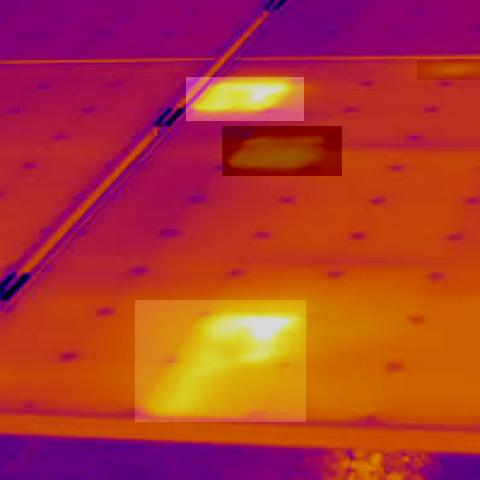fault: (135, 300, 306, 422), (222, 126, 342, 176), (186, 77, 304, 121), (417, 60, 480, 80)
